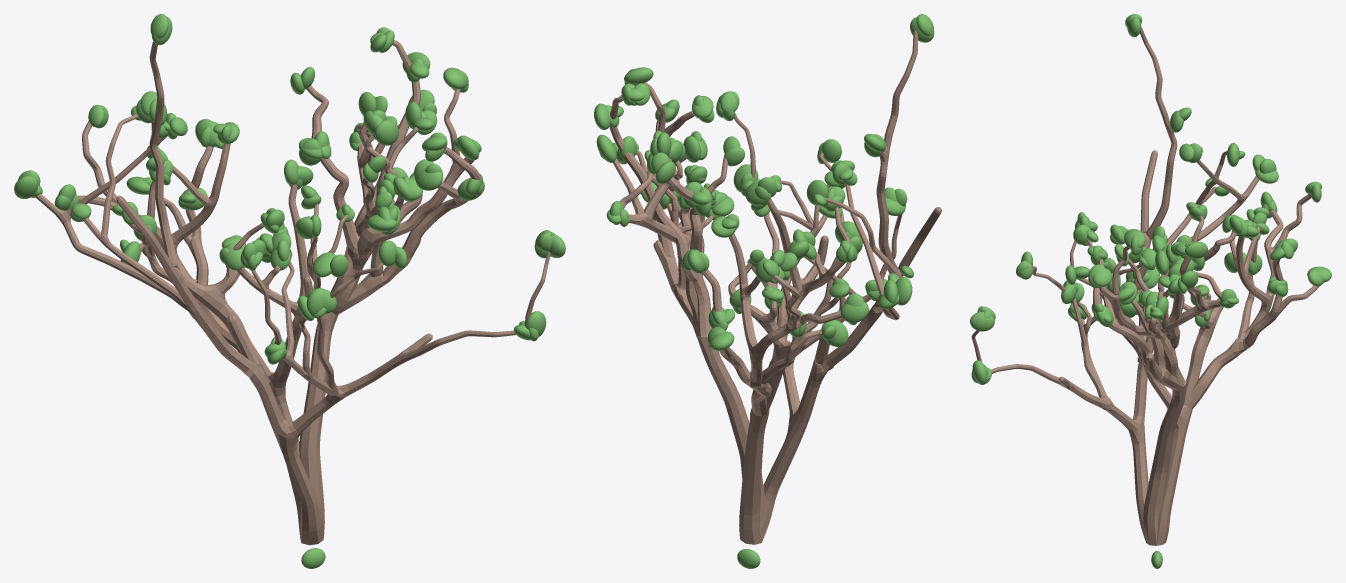
The picture shows the model from 3 angles, left to right: view 1: azimuth 30°, elevation 25°; view 2: azimuth 150°, elevation 25°; view 3: azimuth 270°, elevation 25°; orthographic projection. The views are drawn at different scales.
Parts seen in each view (by area): view 1: object 1; view 2: object 1, Sphere.133; view 3: object 1.
Boxes of the visible parts, x1,y1,x2,y2 form: object 1: (35,40,550,545); object 1: (609,30,941,544); Sphere.133: (840,301,868,322); object 1: (971,27,1319,545).
Size of the model in its own units: 2.42 by 3.74 by 2.51.
